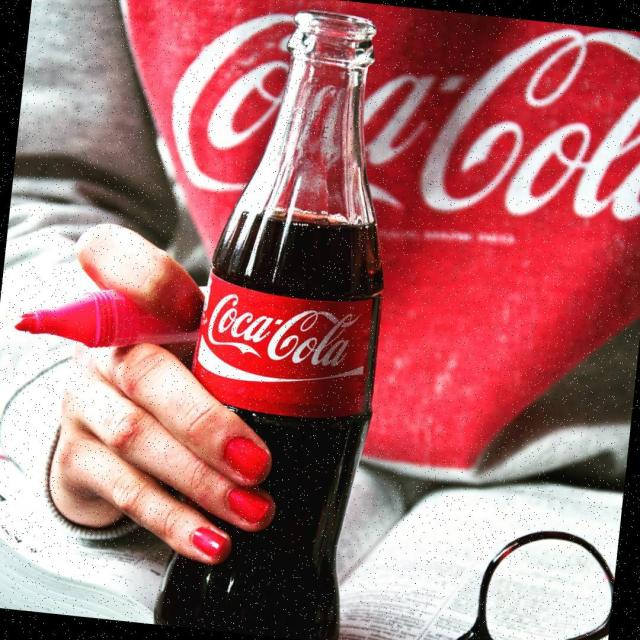coca-cola: (150, 0, 416, 640)
